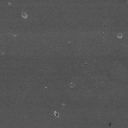corrosion: (52, 109, 61, 119), (115, 31, 124, 40), (20, 11, 29, 19)
